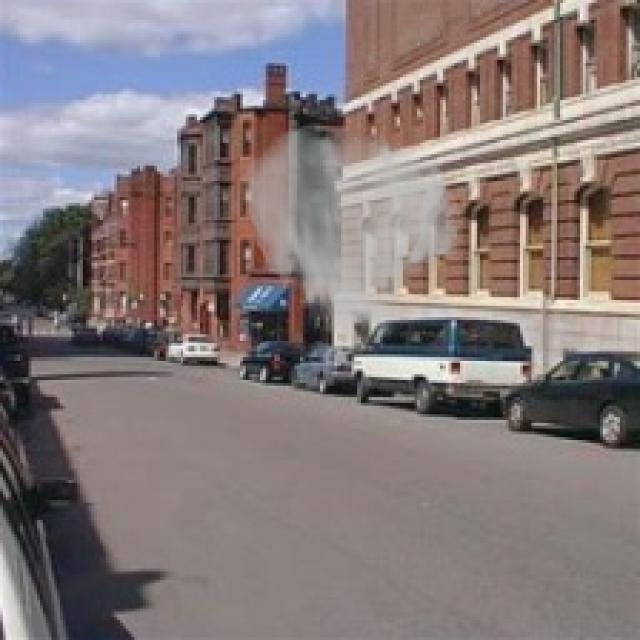smoke: (240, 123, 463, 340)
